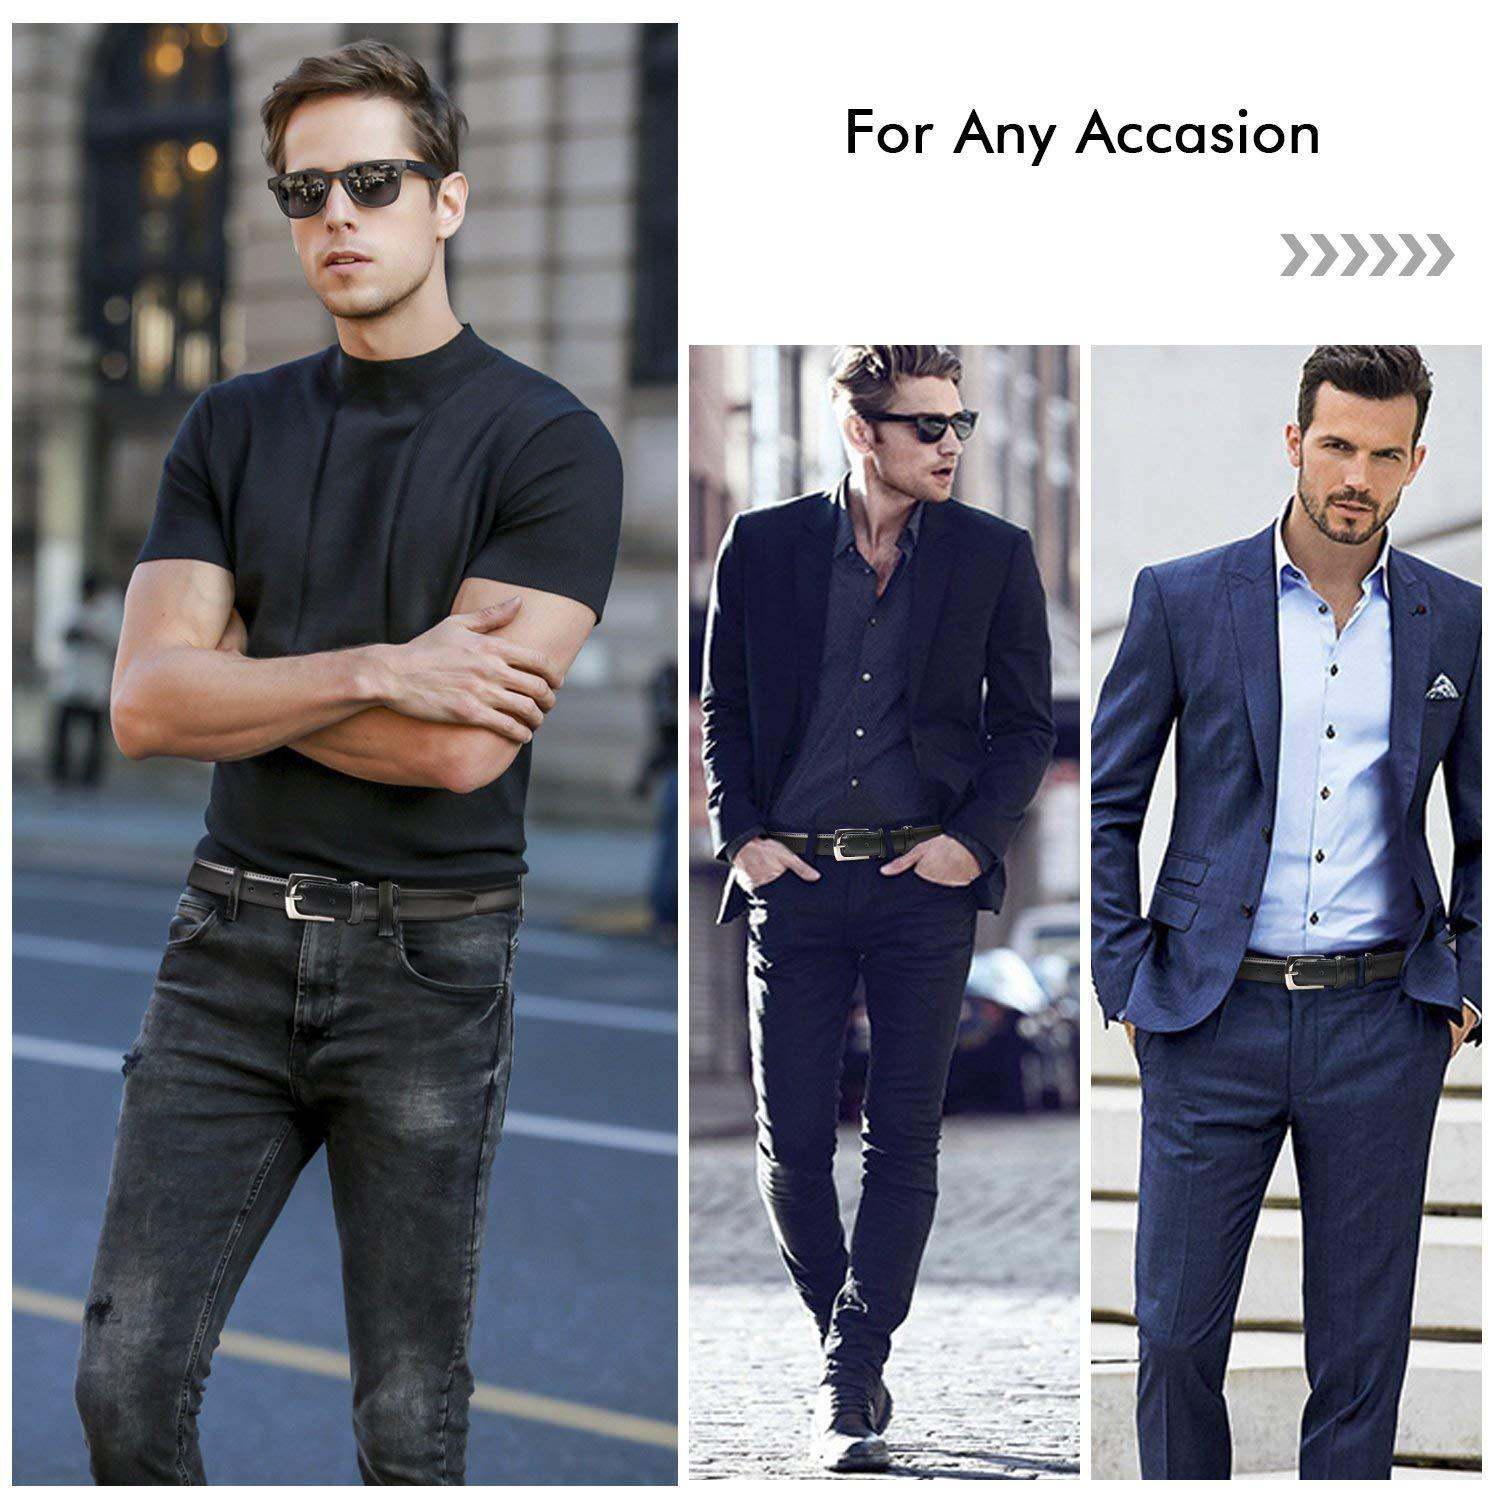C_T-shirt: (110, 342, 615, 863)
C_jeans: (102, 878, 518, 1499)
F_M_suit jacket: (1102, 527, 1484, 1045), (698, 522, 1049, 909)
F_belt: (163, 856, 543, 935), (1210, 924, 1420, 996), (747, 819, 979, 867)
F_dress pants: (1130, 1007, 1429, 1475), (734, 891, 979, 1352)
